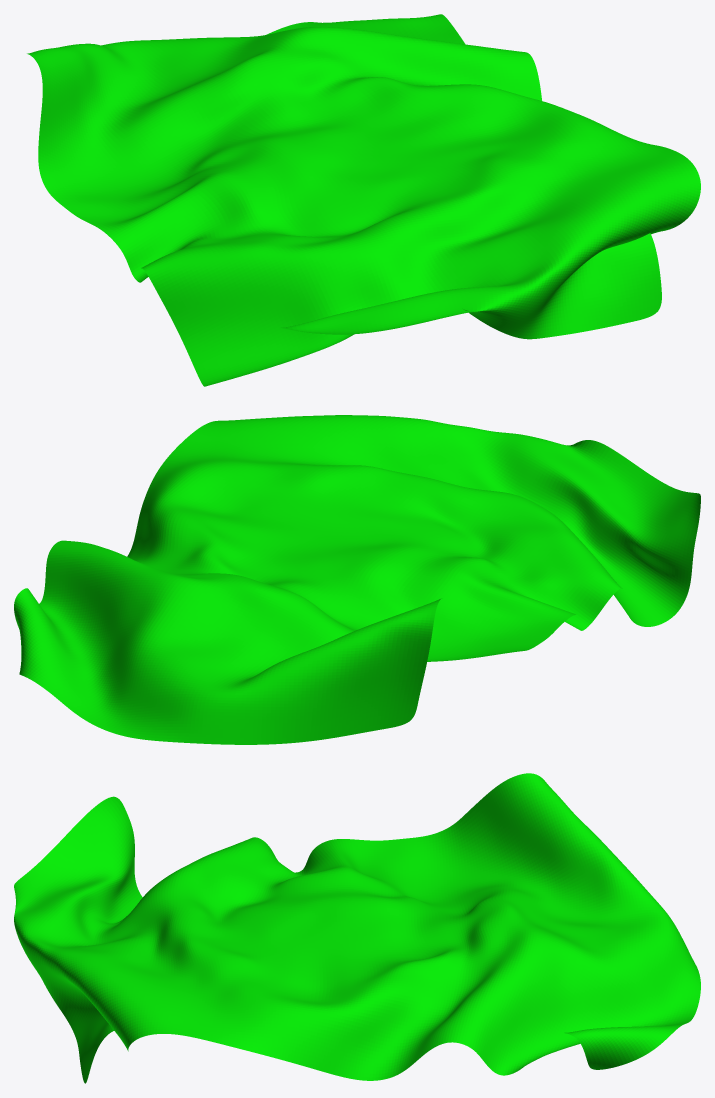
File: paper4.glb
3 renders of one model, top to bottom at view 1: azimuth 30°, elevation 25°; view 2: azimuth 150°, elevation 25°; view 3: azimuth 270°, elevation 25°, orthographic. The views are drawn at different scales.
Visible parts, largest first — view 1: Plane; view 2: Plane; view 3: Plane.
Part boxes in pixels (<box>): Plane: <box>27,14,700,386</box>; Plane: <box>14,415,700,744</box>; Plane: <box>14,773,700,1083</box>.
Size of the model in its own units: 306 by 95.44 by 396.
1 material, 1 textured.
